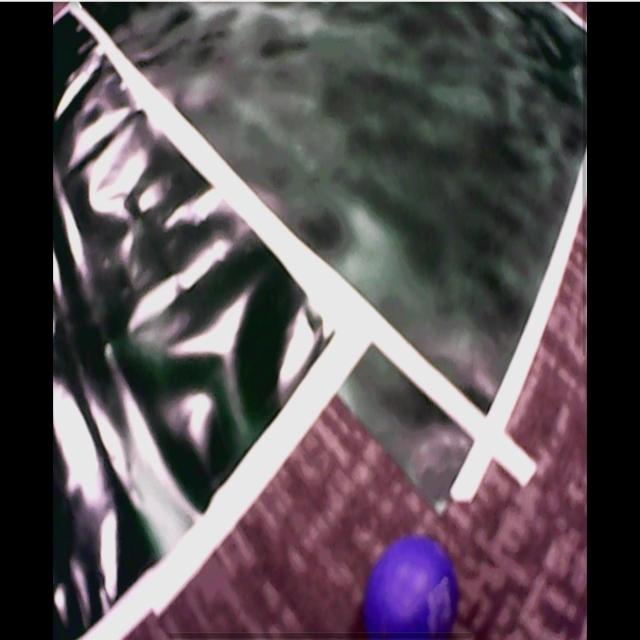ball: (366, 539, 452, 640)
